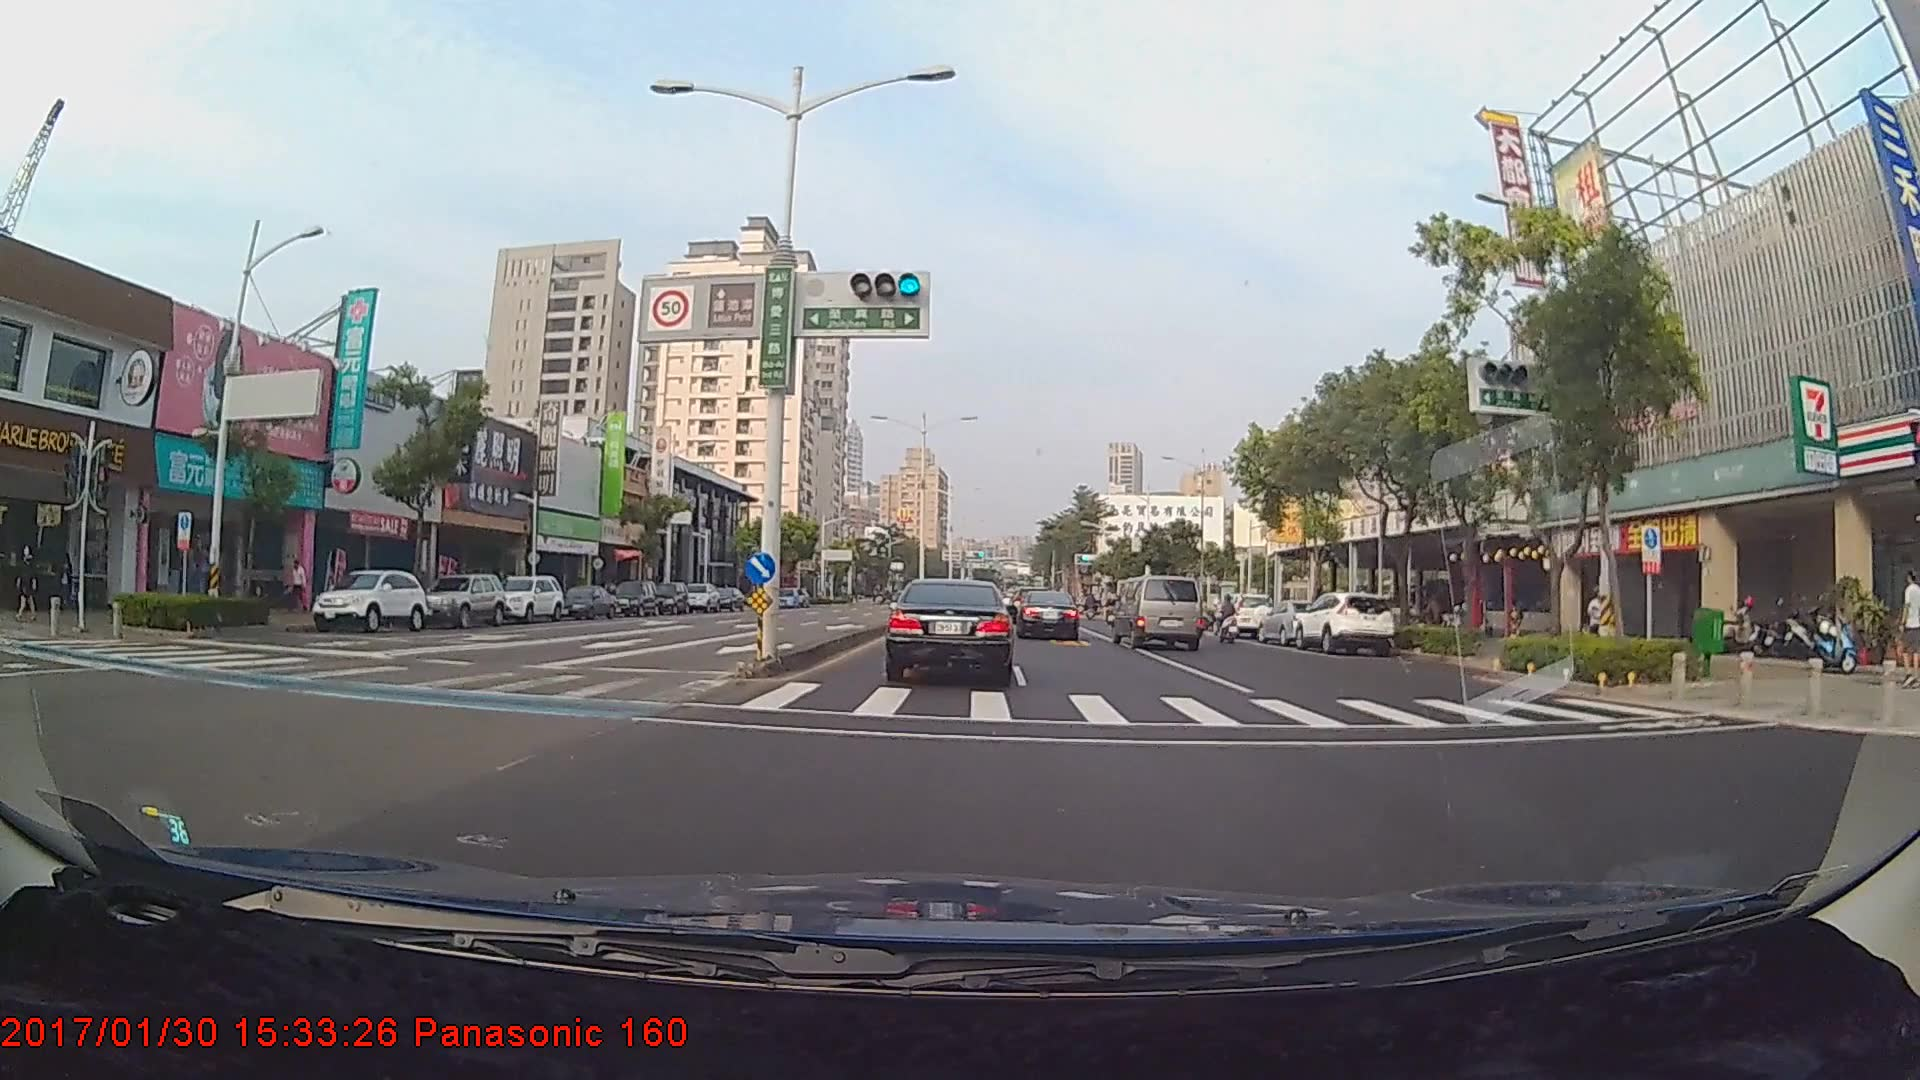pedestrian: (1901, 569, 1920, 679), (288, 557, 308, 615)
rider: (1211, 595, 1247, 645)
vehicle: (887, 576, 1012, 682), (307, 568, 428, 632), (1290, 588, 1398, 653), (1113, 575, 1202, 650), (410, 571, 504, 628), (488, 574, 565, 625), (1011, 590, 1080, 641), (1258, 598, 1332, 644), (554, 583, 617, 620), (609, 581, 659, 620), (650, 583, 688, 616)
